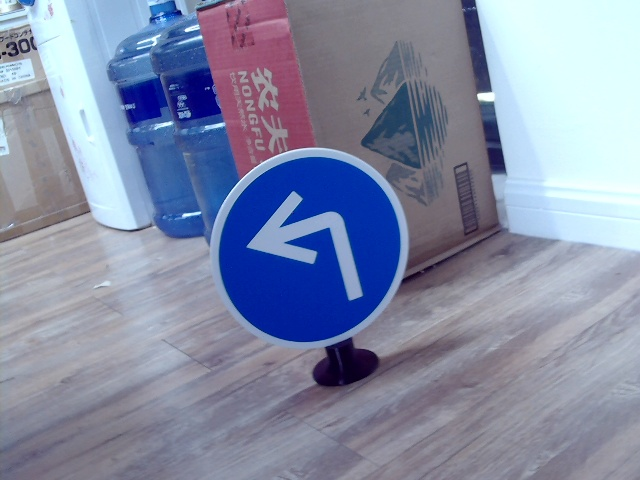turn_left: (246, 185, 367, 306)
